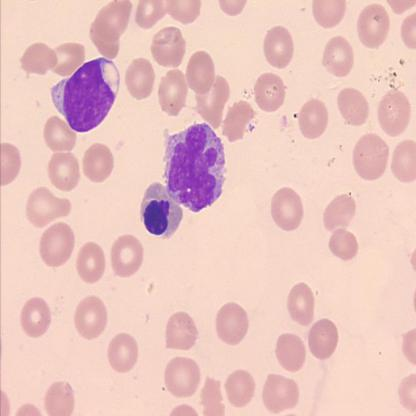NRC: (139, 182, 184, 242)
